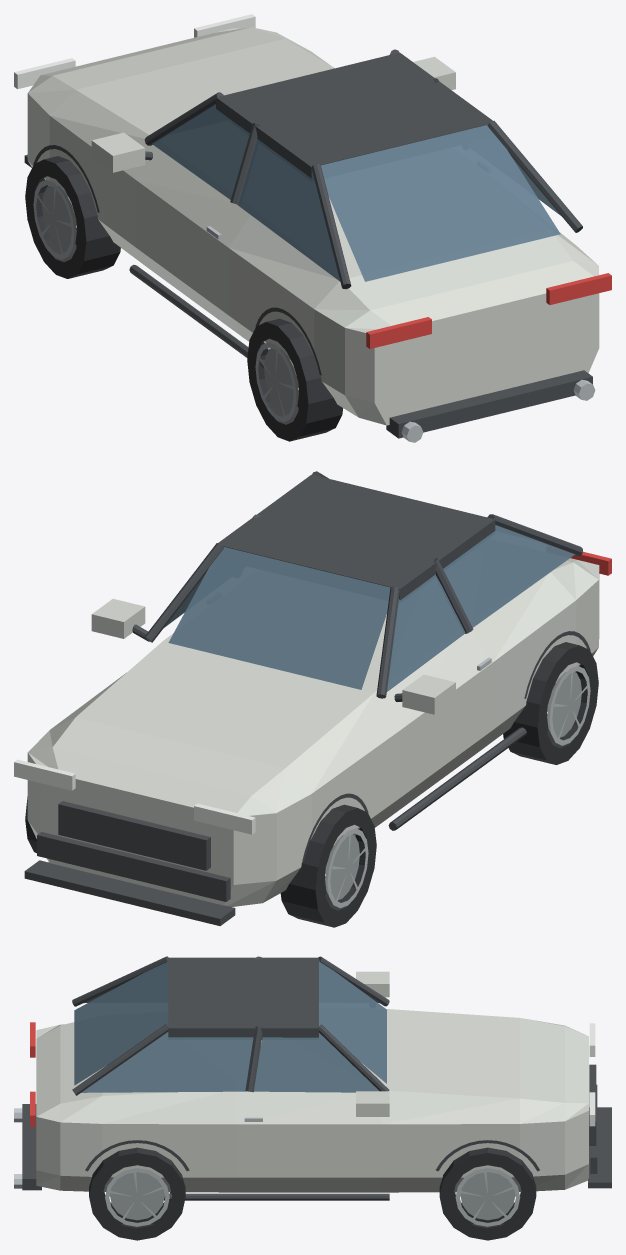
The model's file is alder_hatch.glb.
The picture shows the model from 3 angles, top to bottom: view 1: azimuth 30°, elevation 25°; view 2: azimuth 150°, elevation 25°; view 3: azimuth 270°, elevation 25°; orthographic projection. The views are drawn at different scales.
Parts seen in each view (by area): view 1: Body_Shell, Backlight, Roof_Frame, Quarter_Glass_L, Tire_RL, Tire_FL, Door_Glass_L, Rear_Diffuser, Mirror_Cap_L, Side_Sill_L, Brake_RL, Brake_FL (+11 smaller); view 2: Body_Shell, Windshield, Roof_Frame, Quarter_Glass_L, Tire_FL, Tire_RL, Front_Grille, Lower_Intake, Door_Glass_L, Splitter, Side_Sill_L, Mirror_Cap_L (+11 smaller); view 3: Body_Shell, Roof_Frame, Quarter_Glass_R, Backlight, Door_Glass_R, Windshield, Tire_FR, Tire_RR, Brake_RR, Brake_FR, Side_Sill_R, Splitter (+13 smaller).
Boxes of the visible parts, bbox=[...] form: Body_Shell: bbox=[27, 27, 599, 425]; Backlight: bbox=[321, 124, 560, 281]; Roof_Frame: bbox=[216, 53, 492, 178]; Quarter_Glass_L: bbox=[237, 139, 340, 281]; Tire_RL: bbox=[247, 318, 343, 441]; Tire_FL: bbox=[25, 156, 120, 278]; Door_Glass_L: bbox=[152, 104, 249, 199]; Rear_Diffuser: bbox=[386, 370, 592, 438]; Mirror_Cap_L: bbox=[91, 132, 145, 172]; Side_Sill_L: bbox=[129, 264, 264, 370]; Brake_RL: bbox=[264, 348, 298, 414]; Brake_FL: bbox=[42, 186, 76, 251]; Body_Shell: bbox=[27, 558, 599, 906]; Windshield: bbox=[168, 546, 390, 689]; Roof_Frame: bbox=[218, 475, 495, 600]; Quarter_Glass_L: bbox=[443, 525, 574, 627]; Tire_FL: bbox=[280, 804, 376, 927]; Tire_RL: bbox=[503, 642, 598, 764]; Front_Grille: bbox=[58, 801, 210, 870]; Lower_Intake: bbox=[37, 832, 230, 901]; Door_Glass_L: bbox=[387, 574, 465, 691]; Splitter: bbox=[24, 860, 235, 925]; Side_Sill_L: bbox=[388, 727, 526, 830]; Mirror_Cap_L: bbox=[402, 674, 455, 714]; Body_Shell: bbox=[36, 1009, 588, 1192]; Roof_Frame: bbox=[168, 957, 318, 1039]; Quarter_Glass_R: bbox=[81, 1032, 253, 1092]; Backlight: bbox=[74, 960, 168, 1085]; Door_Glass_R: bbox=[254, 1033, 379, 1092]; Windshield: bbox=[319, 960, 386, 1083]; Tire_FR: bbox=[439, 1147, 536, 1240]; Tire_RR: bbox=[89, 1147, 185, 1240]; Brake_RR: bbox=[110, 1172, 164, 1220]; Brake_FR: bbox=[460, 1172, 515, 1220]; Side_Sill_R: bbox=[164, 1193, 389, 1200]; Splitter: bbox=[588, 1107, 611, 1188].
Size of the model in its own units: 2.23 by 1.53 by 4.27.
